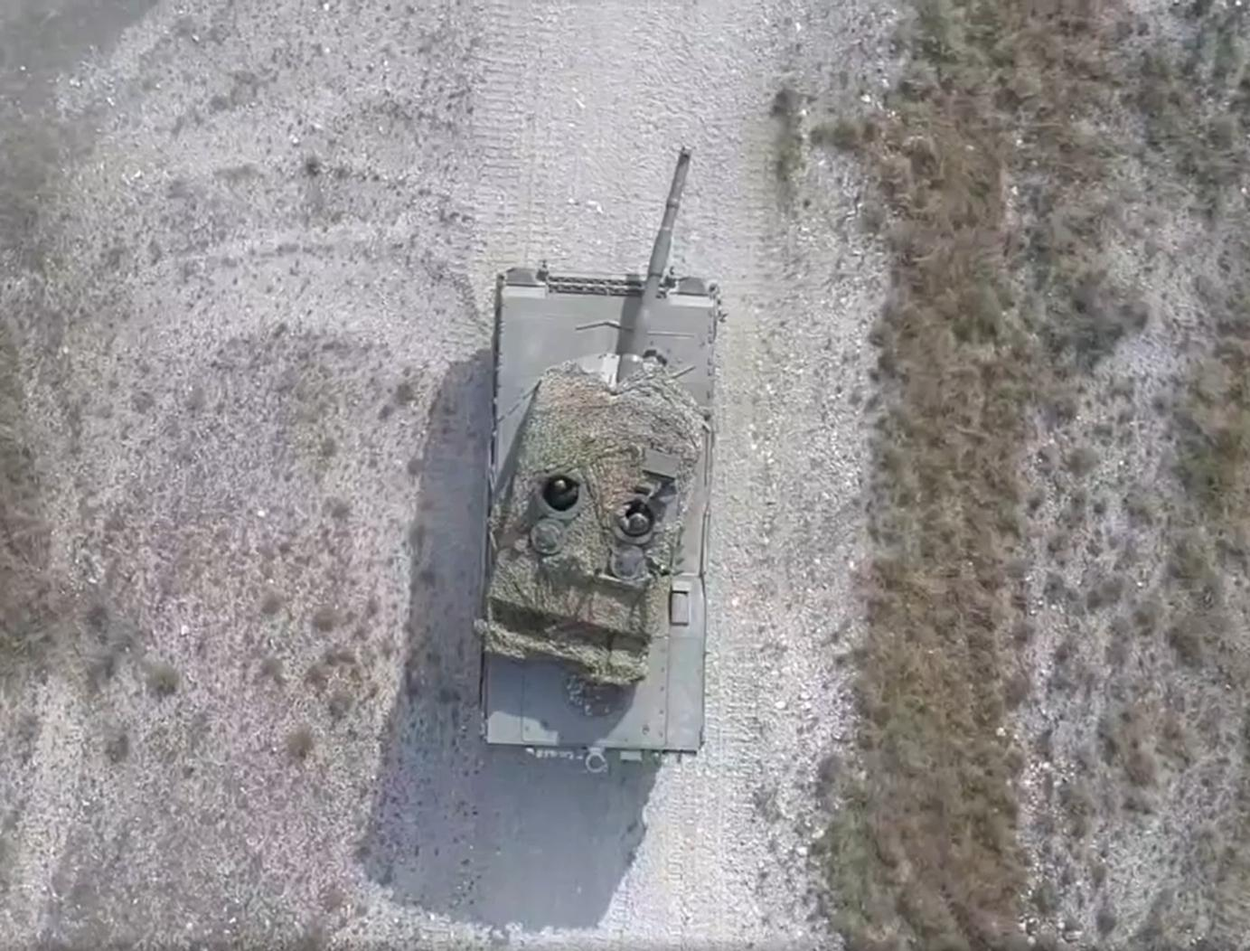tank: (470, 135, 731, 774)
